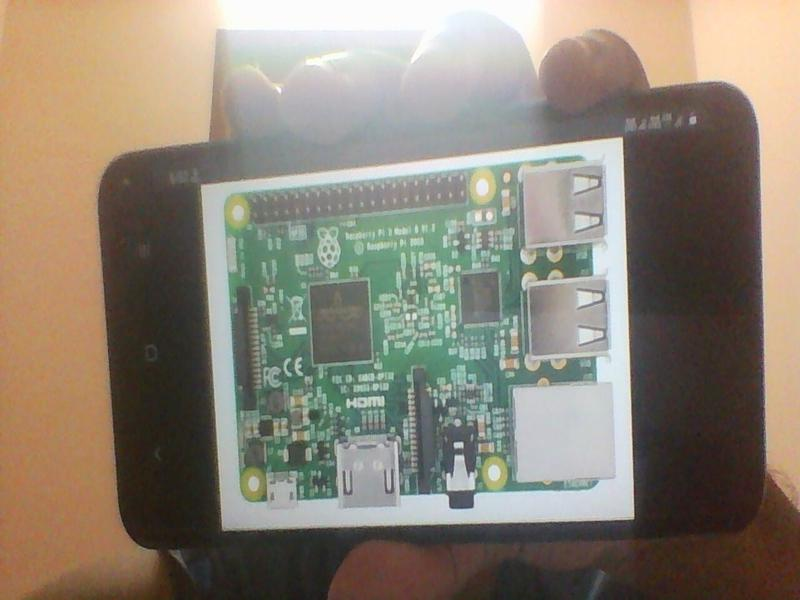aud: (438, 415, 480, 515)
eth: (509, 380, 622, 486)
usb: (516, 160, 612, 252), (522, 277, 611, 363)
